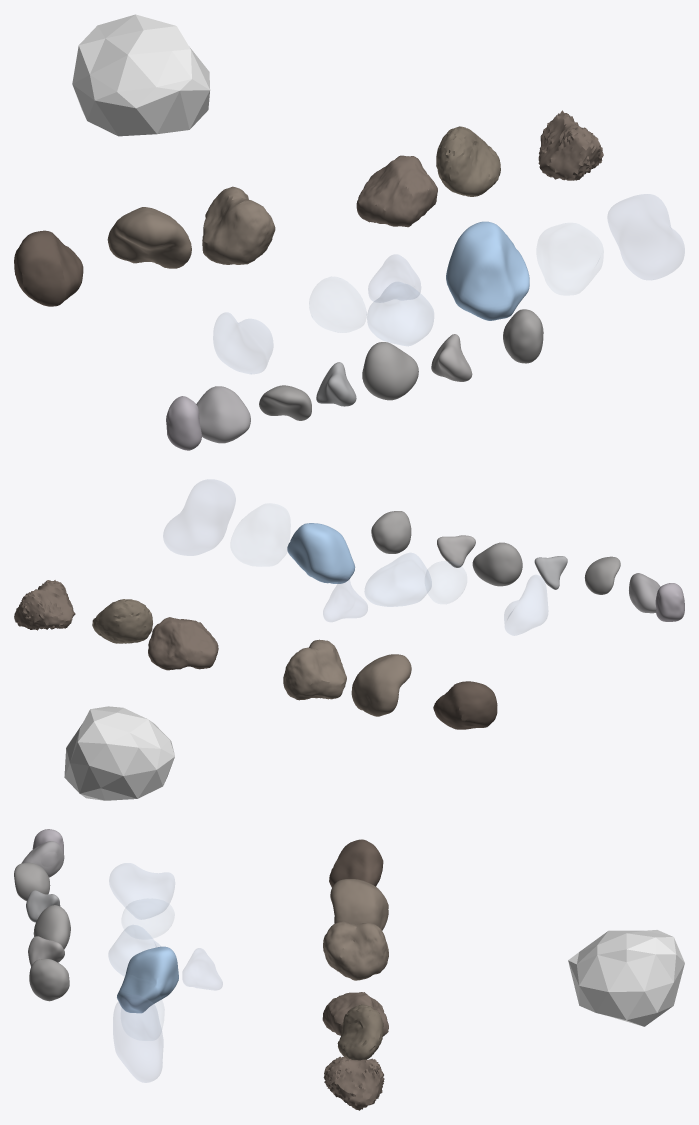
The model's file is RockModels.fbx.
3 renders of one model, top to bottom at view 1: azimuth 30°, elevation 25°; view 2: azimuth 150°, elevation 25°; view 3: azimuth 270°, elevation 25°, orthographic. The views are drawn at different scales.
Visible parts, largest first — view 1: Icosphere, rock.010, rock.012, rock.004, rock.002, rock.003, rock.001, rock.005, rock, rock.011, rock.009, rock.017 (+7 smaller); view 2: Icosphere, rock.012, rock.002, rock.010, rock.004, rock.001, rock.011, rock.003, rock, rock.005, rock.009, rock.017 (+7 smaller); view 3: Icosphere, rock.012, rock.004, rock.010, rock.009, rock, rock.001, rock.005, rock.003, rock.015, rock.002, rock.011 (+6 smaller).
Part boxes in pixels (x1,y1,x2,y2): Icosphere: (72,14,210,136); rock.010: (446,221,529,320); rock.012: (608,194,684,279); rock.004: (202,186,275,264); rock.002: (356,155,437,227); rock.003: (14,230,83,306); rock.001: (107,207,191,268); rock.005: (436,126,500,196); rock: (538,110,603,180); rock.011: (367,282,433,345); rock.009: (213,313,272,373); rock.017: (362,342,418,400); Icosphere: (64,706,174,800); rock.012: (163,479,235,555); rock.002: (148,617,218,670); rock.010: (287,523,355,583); rock.004: (283,639,346,700); rock.001: (351,654,411,716); rock.011: (365,553,431,606); rock.003: (433,681,497,729); rock: (14,580,75,630); rock.005: (92,599,152,643); rock.009: (504,575,547,635); rock.017: (472,542,522,586); Icosphere: (568,930,684,1026); rock.012: (113,995,162,1082); rock.004: (323,921,388,980); rock.010: (117,946,178,1013); rock.009: (109,863,174,919); rock: (323,1056,384,1110); rock.001: (330,879,388,930); rock.005: (337,1004,383,1060); rock.003: (329,839,383,887); rock.015: (29,959,69,1001); rock.002: (322,992,388,1036); rock.011: (109,925,159,976).
Bounding box in the file's own units: 992 × 175 × 1148.
